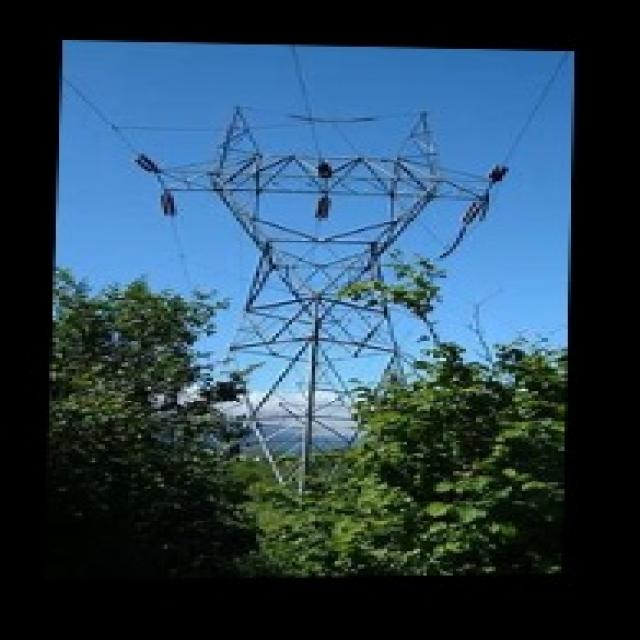utility poles: (322, 262, 549, 440), (145, 254, 298, 480)
